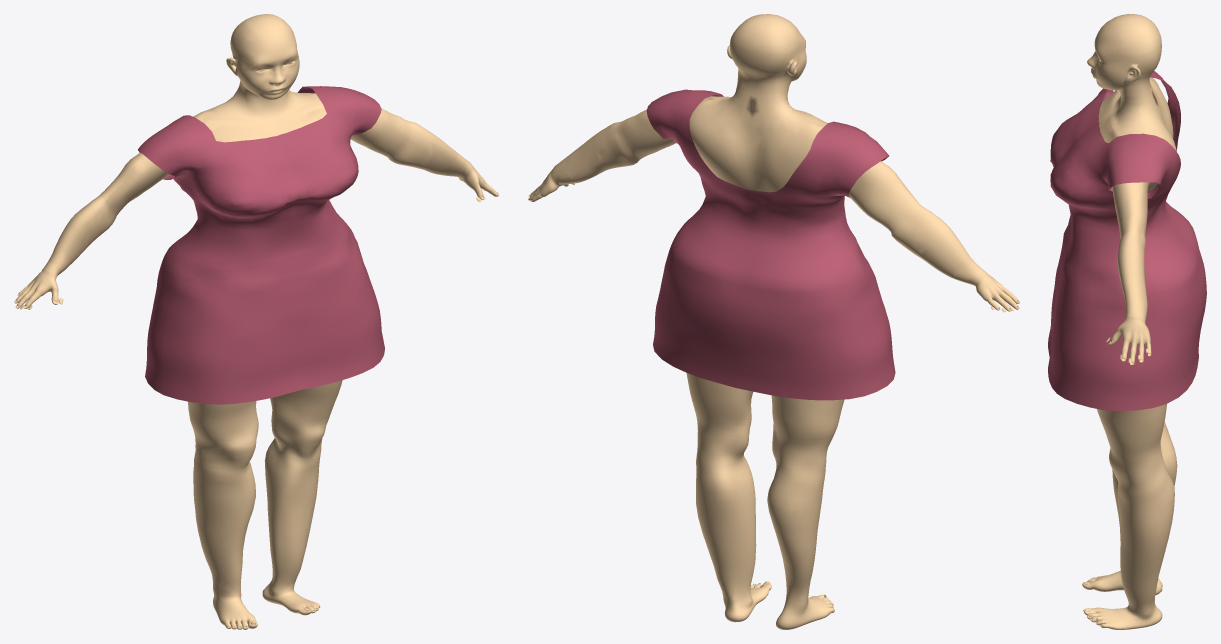
File: dress7.glb
3 renders of one model, left to right at view 1: azimuth 30°, elevation 25°; view 2: azimuth 150°, elevation 25°; view 3: azimuth 270°, elevation 25°, orthographic.
Visible parts, largest first — view 1: Jennifer.F_Dress_01, Body; view 2: Body, Jennifer.F_Dress_01; view 3: Jennifer.F_Dress_01, Body.
Boxes of the visible parts, left/top/right/bottom form: Jennifer.F_Dress_01: left=138, top=86, right=384, bottom=404; Body: left=14, top=14, right=499, bottom=629; Body: left=528, top=14, right=1019, bottom=629; Jennifer.F_Dress_01: left=646, top=89, right=895, bottom=400; Jennifer.F_Dress_01: left=1048, top=71, right=1206, bottom=411; Body: left=1082, top=14, right=1177, bottom=629.
Size of the model in its own units: 1.6 by 1.88 by 0.4539.
